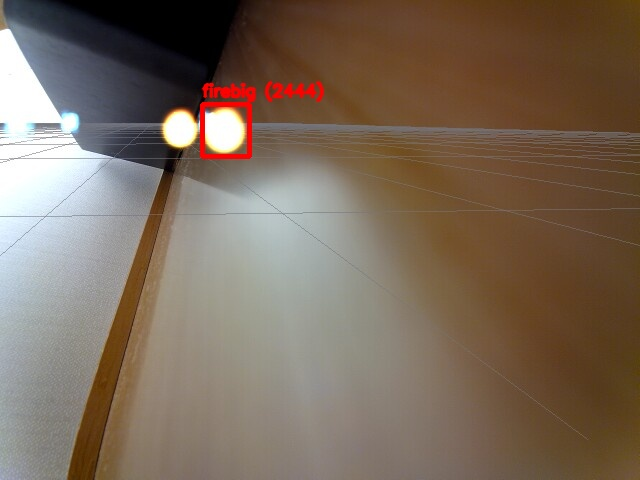firebig: (202, 104, 249, 156)
